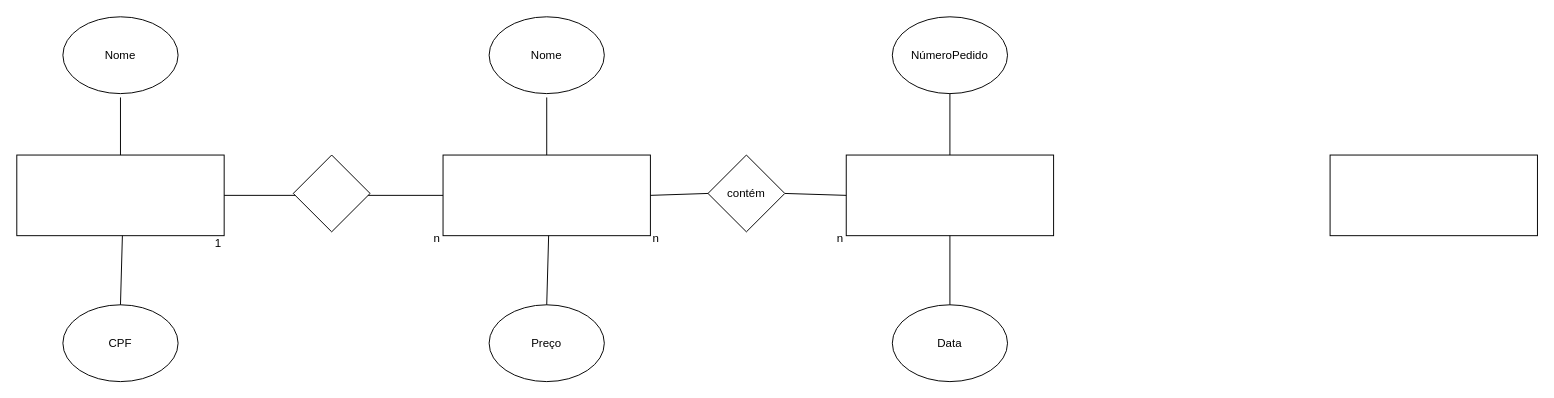
Image size: 1554x398. Some labels were removed from this diagram. The shapes that lost their labels are listed below. From the top down, each one's centre as x and y in pixels, then its label:
At (x=120, y=195): "Cliente".
At (x=331, y=193): "realiza".
At (x=546, y=195): "Pedido".
At (x=949, y=195): "Produto".
